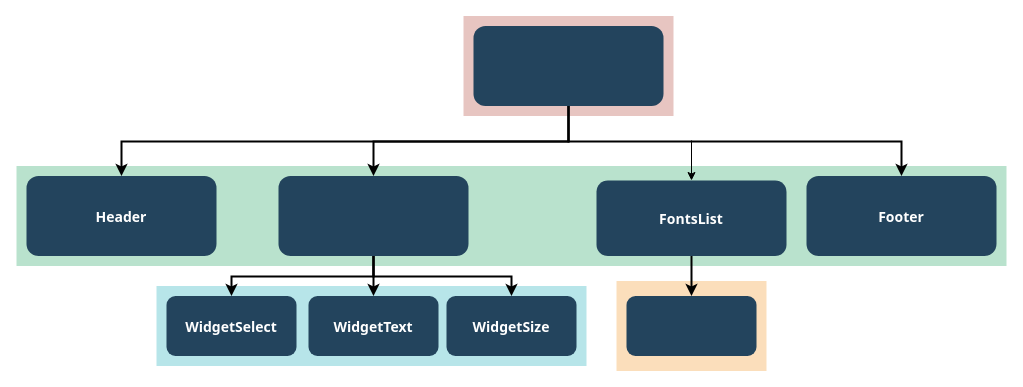
Image size: 1023x387. Some labels were removed from this diagram. The shapes that lost their labels are listed below. From the top down, each one's centre as x and y in pixels, then its label:
At (x=568, y=66): "App".
At (x=373, y=216): "FontsWidgets".
At (x=691, y=326): "Font".
